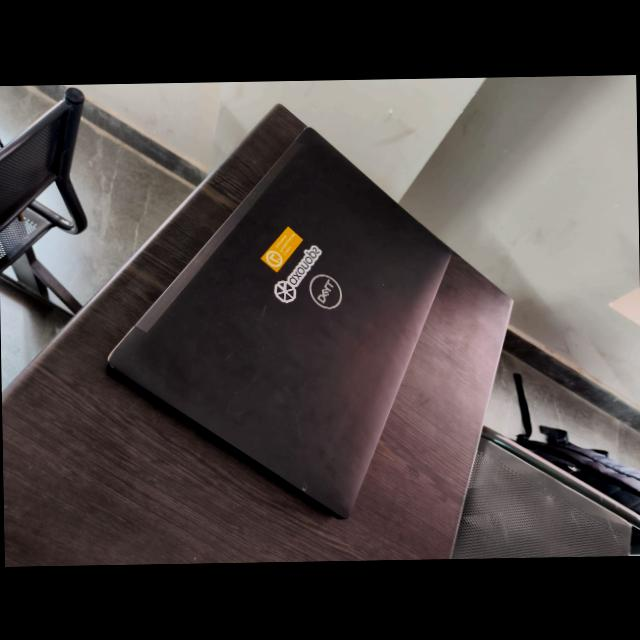laptop: (108, 127, 451, 517)
